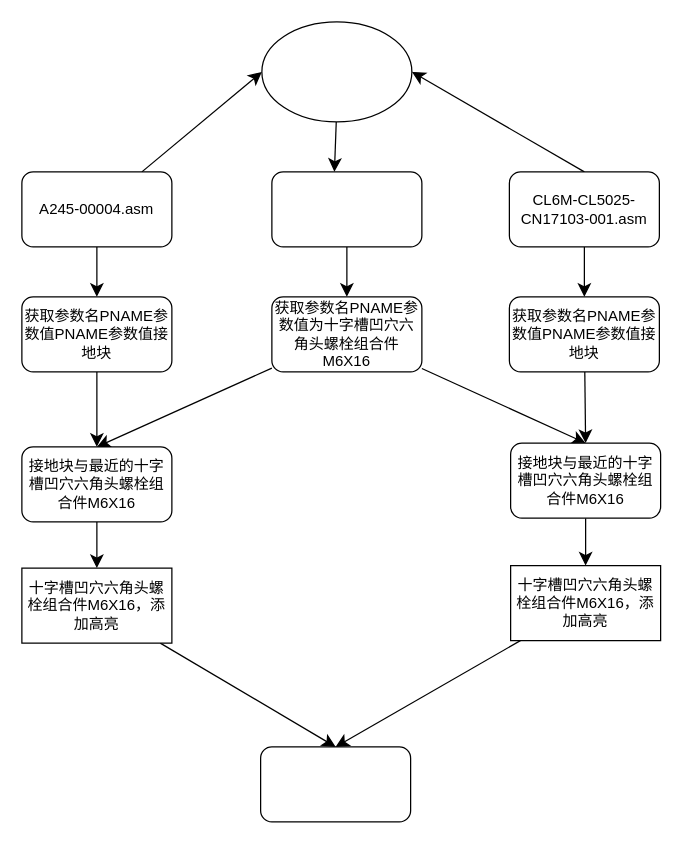
Some shapes in this 683 by 844 pixel diagram are drawn without their labels. The shapes that lost their labels are listed below. From the top down, each one's centre as x and y in pixels, then its label:
At [336,71]: "获取模型".
At [346,209]: "ASSY-PART.asm".
At [335,784]: "判断两个十字槽凹穴六角头螺直径是否相等，是为合格".
